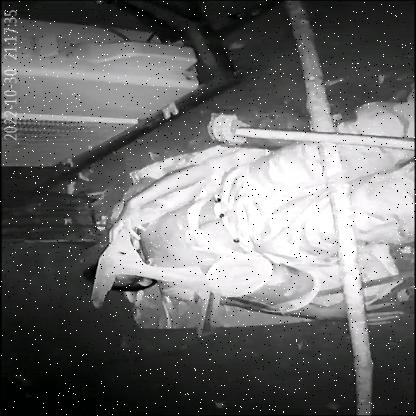hand: (100, 202, 152, 245)
